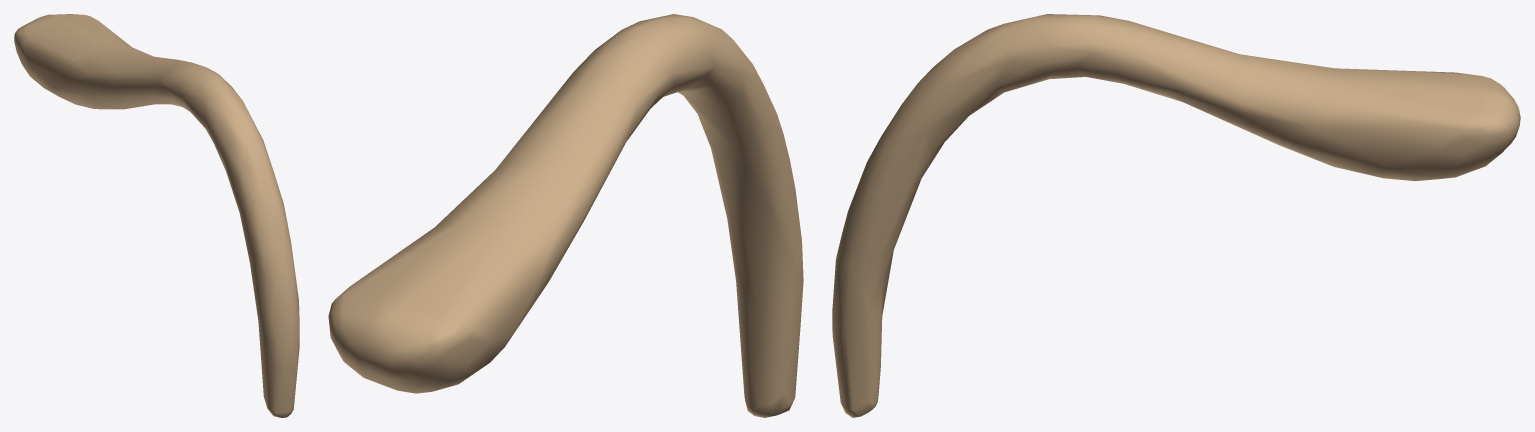
The model's file is corpus-spongiosum.glb.
3 views of the same model, side by side, from view 1: azimuth 30°, elevation 25°; view 2: azimuth 150°, elevation 25°; view 3: azimuth 270°, elevation 25° (orthographic). The views are drawn at different scales.
Visible parts, largest first — view 1: FMA19617; view 2: FMA19617; view 3: FMA19617.
Boxes of the visible parts, left/top/right/bottom form: FMA19617: left=14, top=14, right=299, bottom=417; FMA19617: left=328, top=14, right=803, bottom=417; FMA19617: left=832, top=14, right=1520, bottom=417.
Size of the model in its own units: 0.2125 by 0.7128 by 1.12.
